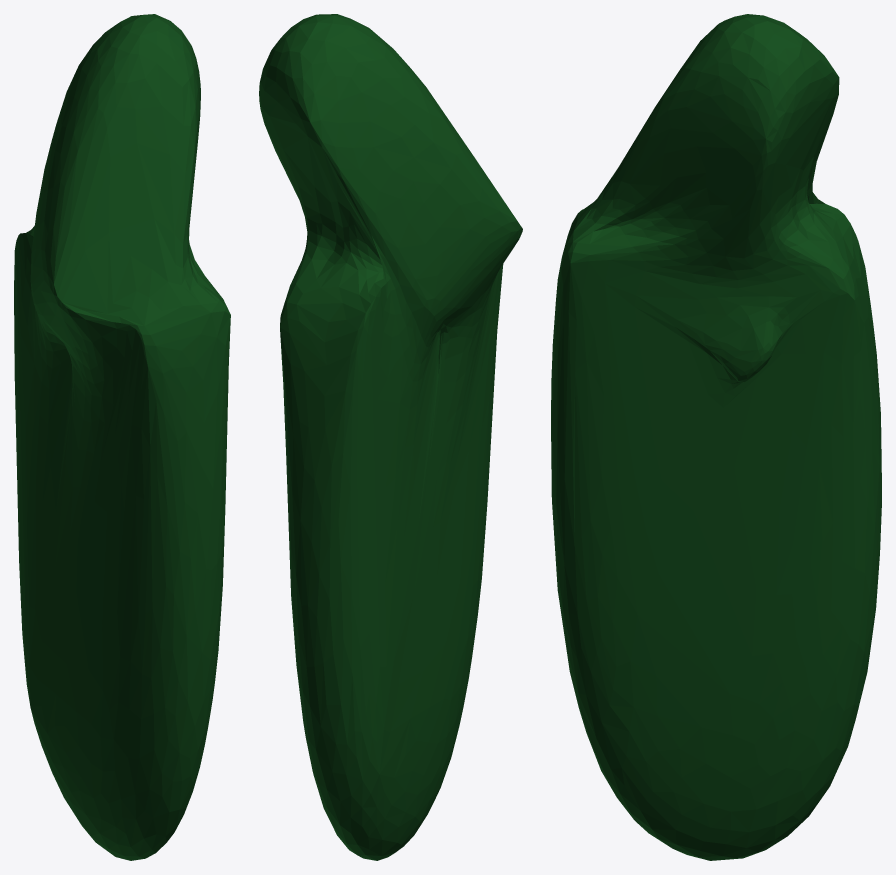
The picture shows the model from 3 angles, left to right: view 1: azimuth 30°, elevation 25°; view 2: azimuth 150°, elevation 25°; view 3: azimuth 270°, elevation 25°; orthographic projection. The views are drawn at different scales.
Parts seen in each view (by area): view 1: 186_Cube.773; view 2: 186_Cube.773; view 3: 186_Cube.773.
Boxes of the visible parts, x1,y1,x2,y2 form: 186_Cube.773: [14, 14, 230, 860]; 186_Cube.773: [259, 14, 522, 860]; 186_Cube.773: [551, 14, 881, 860].
Size of the model in its own units: 3.91 by 15.32 by 5.33.
